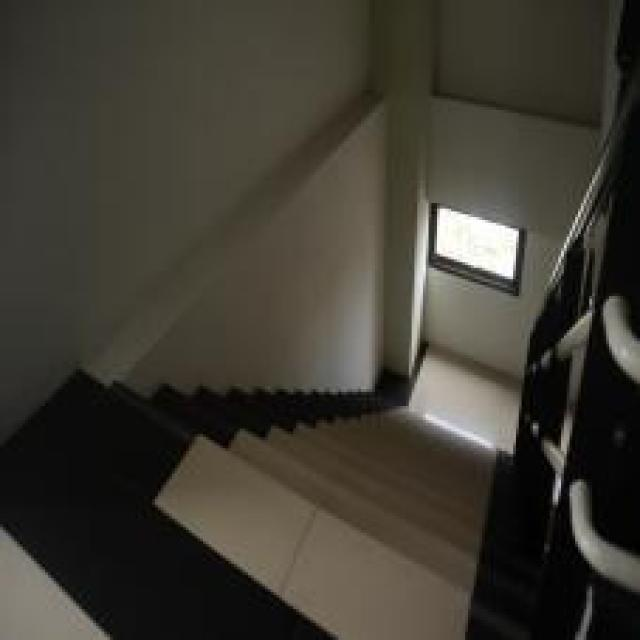downstair: (187, 396, 509, 593)
